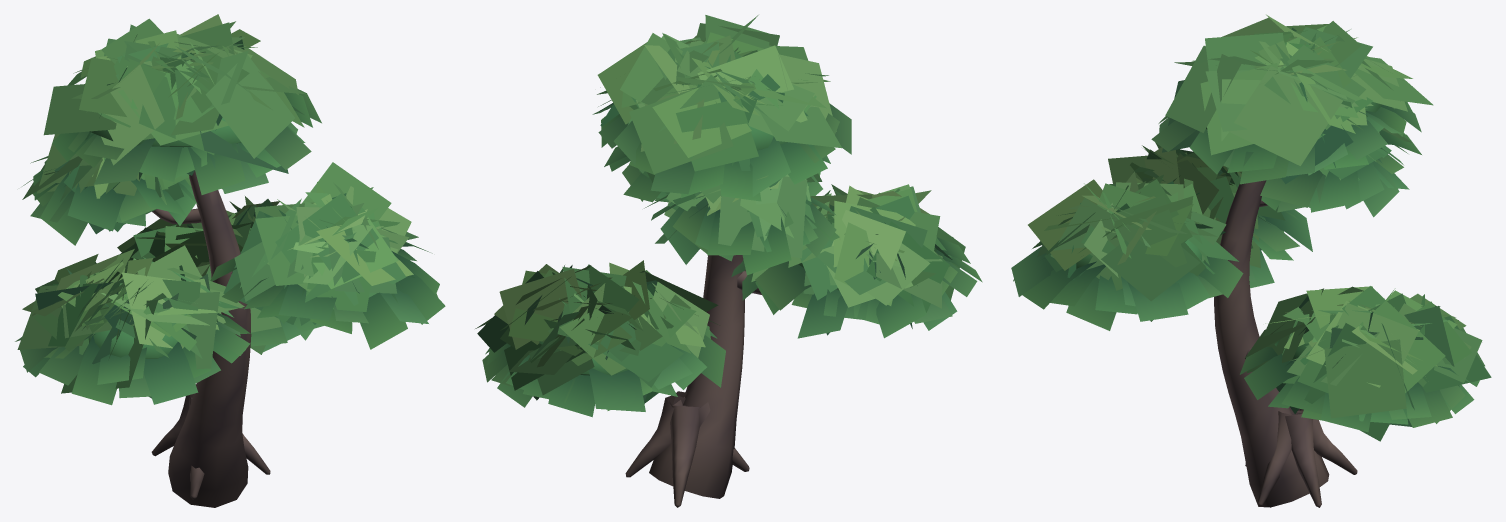
The model's file is tree-village-pine-v2.glb.
3 renders of one model, left to right at view 1: azimuth 30°, elevation 25°; view 2: azimuth 150°, elevation 25°; view 3: azimuth 270°, elevation 25°, orthographic.
Parts seen in each view (by area): view 1: cards_pine, bark, foliage; view 2: cards_pine, bark, foliage; view 3: cards_pine, bark, foliage.
Boxes of the visible parts, bbox=[...] form: cards_pine: bbox=[15, 14, 445, 405]; bark: bbox=[151, 170, 270, 507]; foliage: bbox=[88, 117, 241, 358]; cards_pine: bbox=[475, 15, 982, 417]; bark: bbox=[625, 255, 761, 507]; foliage: bbox=[539, 126, 936, 375]; cards_pine: bbox=[1011, 14, 1491, 441]; bark: bbox=[1214, 180, 1357, 507]; foliage: bbox=[1076, 102, 1382, 361].
Size of the model in its own units: 4.84 by 5.58 by 5.32.
